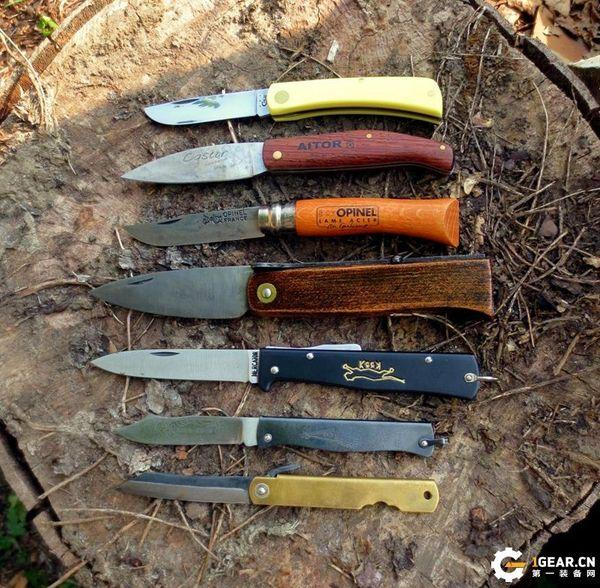knife: (93, 53, 519, 531)
